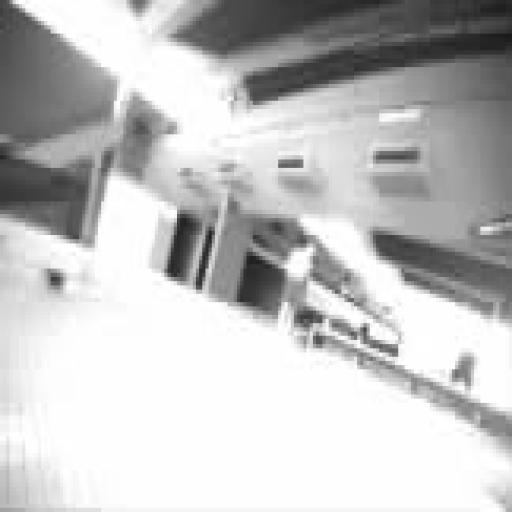human: (279, 244, 316, 331)
